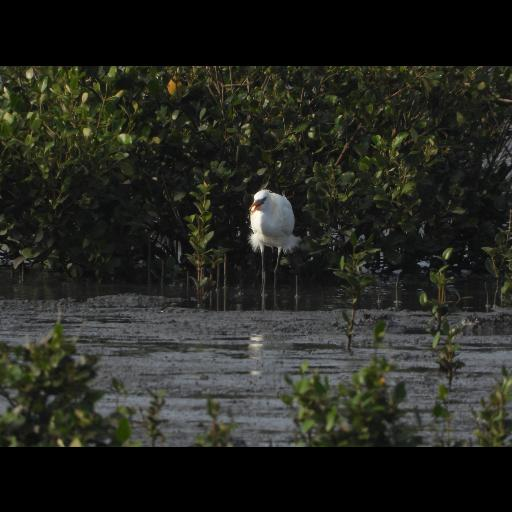chinese_egret: (248, 189, 298, 297)
